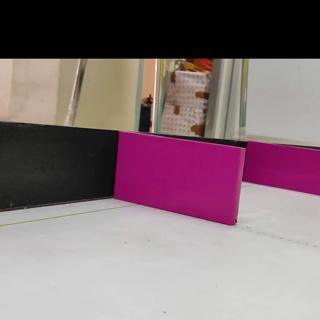xparking: (120, 147, 237, 215), (255, 149, 320, 196)
